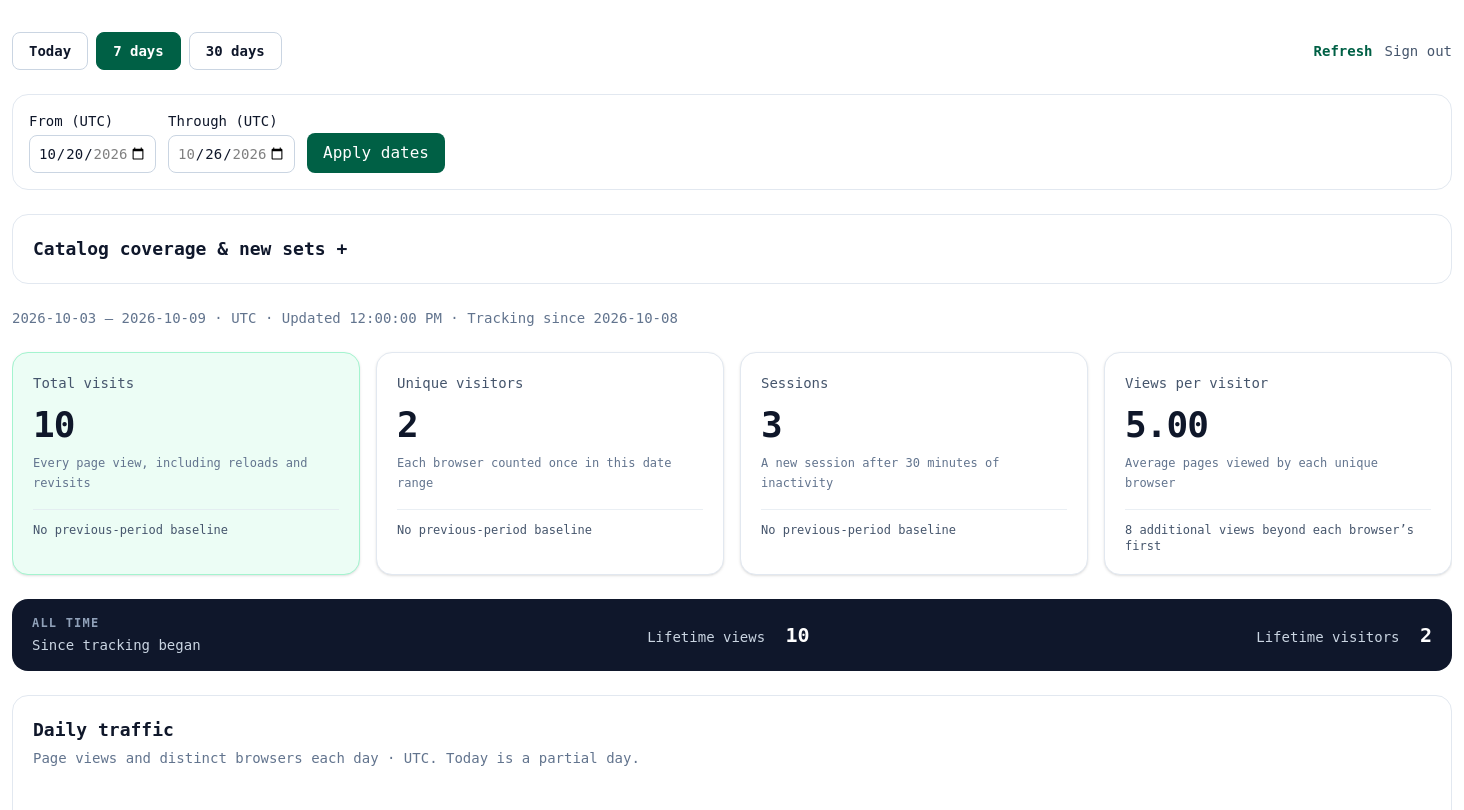
Test case: refreshes with requested dates and handles session expiration
Expected: the text "Lifetime visitors" is shown, [1256, 629, 1408, 645]
Click the button "Today" at (50, 51), box [12, 32, 88, 70]
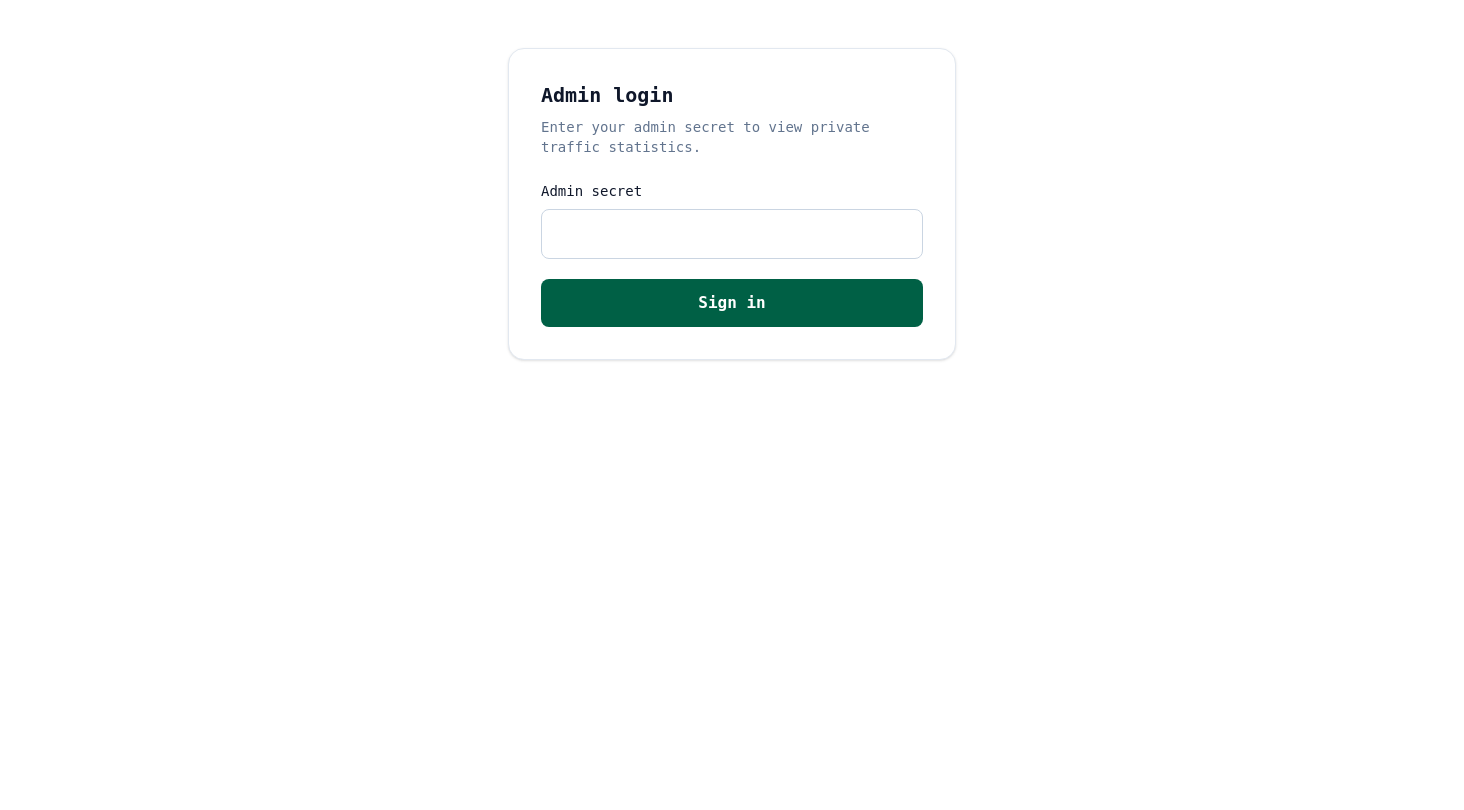
Expected: the password field labelled "Admin secret" is shown, [541, 209, 923, 259]
Expected: the text "Lifetime visitors" is gone
